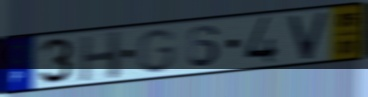3: (36, 36, 77, 86)
4: (242, 15, 280, 67)
6: (187, 24, 221, 69)
G: (135, 27, 178, 75)
H: (78, 29, 123, 83)
V: (287, 10, 331, 62)
